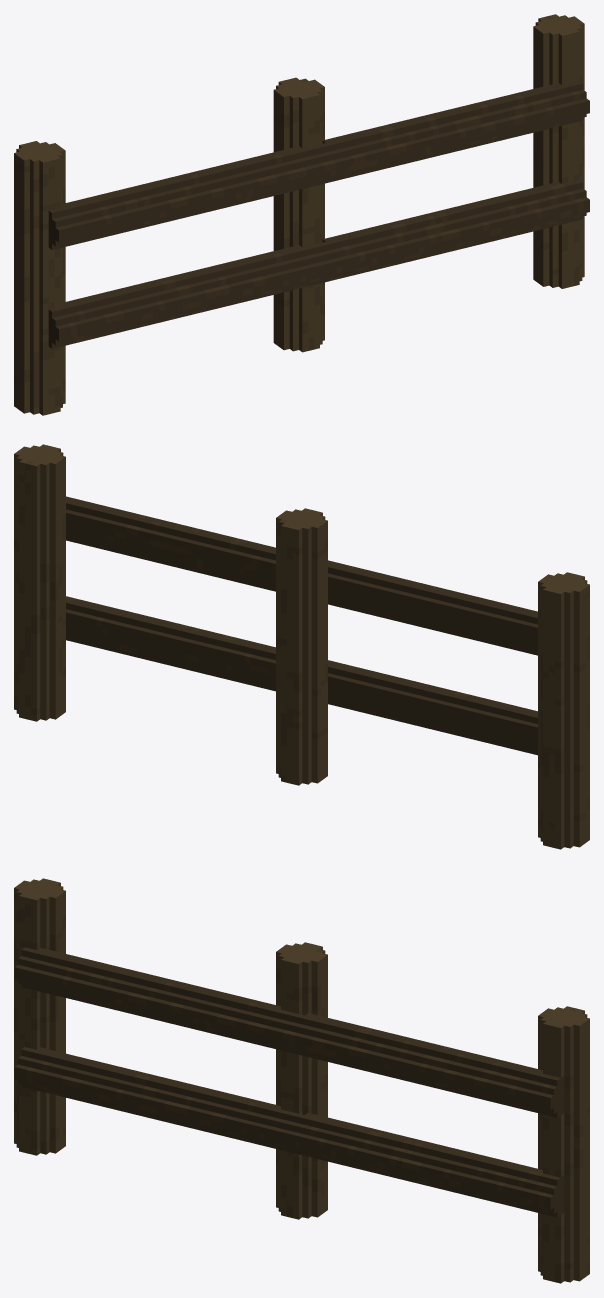
Rendered from Fence1_1.obj.
3 renders of one model, top to bottom at view 1: azimuth 30°, elevation 25°; view 2: azimuth 150°, elevation 25°; view 3: azimuth 330°, elevation 25°, orthographic.
Bounding box in the file's own units: 9.5 × 4.1 × 1.
1 material, 1 textured.
